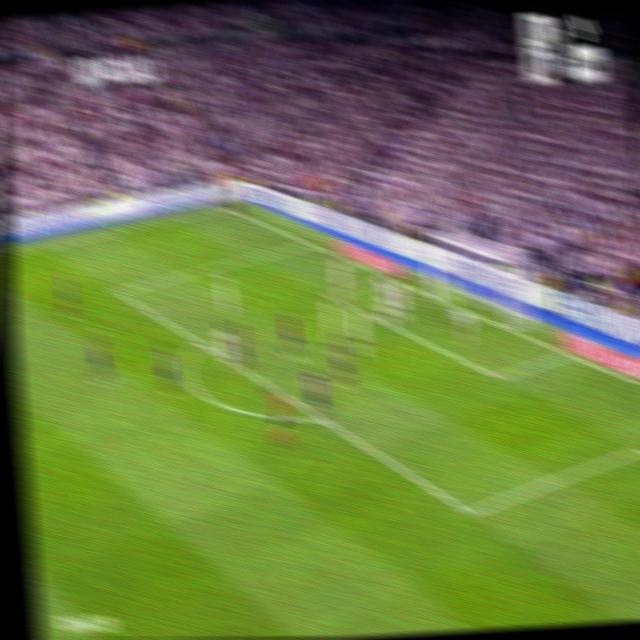bigarea_bottom_inner: (459, 497, 479, 527)
bigarea_top_inner: (110, 281, 127, 301)
bigarea_top_outter: (299, 234, 315, 248)
corner: (217, 201, 233, 212)
smallarea_bottom_inner: (489, 365, 507, 388)
smallarea_bottom_outter: (559, 345, 576, 361)
top_arc_area_intersection: (191, 332, 208, 351)
